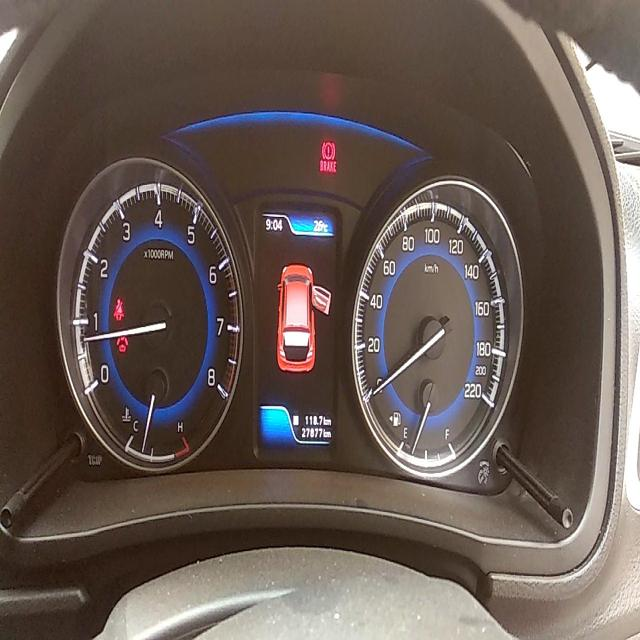odometer: (301, 424, 323, 440)
